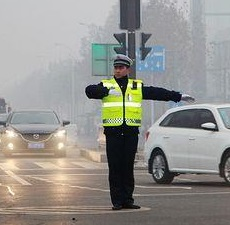person: (83, 51, 196, 212)
